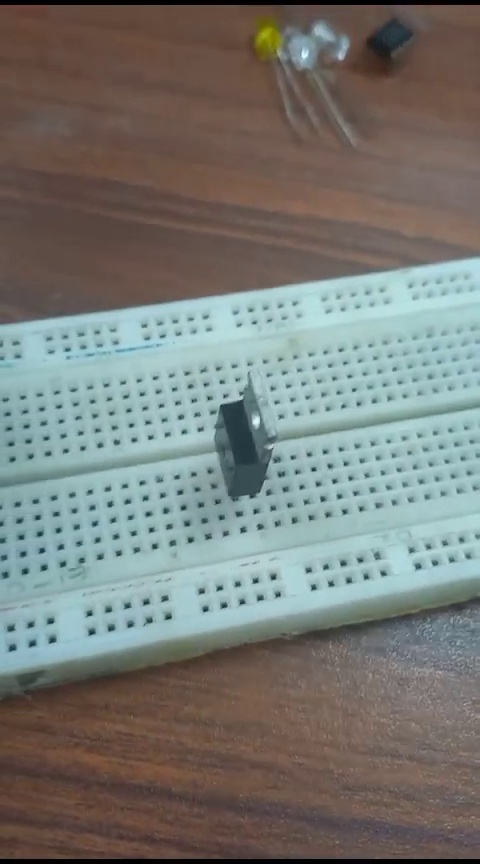voltage regulator: (204, 368, 290, 527)
